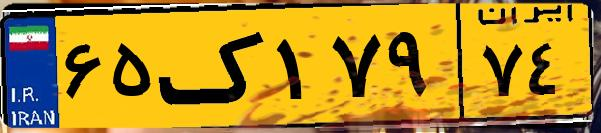1: (270, 28, 330, 110)
4: (525, 38, 570, 115)
5: (110, 28, 158, 98)
6: (57, 26, 110, 100)
7: (330, 28, 385, 110), (475, 38, 525, 113)
9: (385, 28, 445, 110)
ک: (158, 12, 270, 120)
